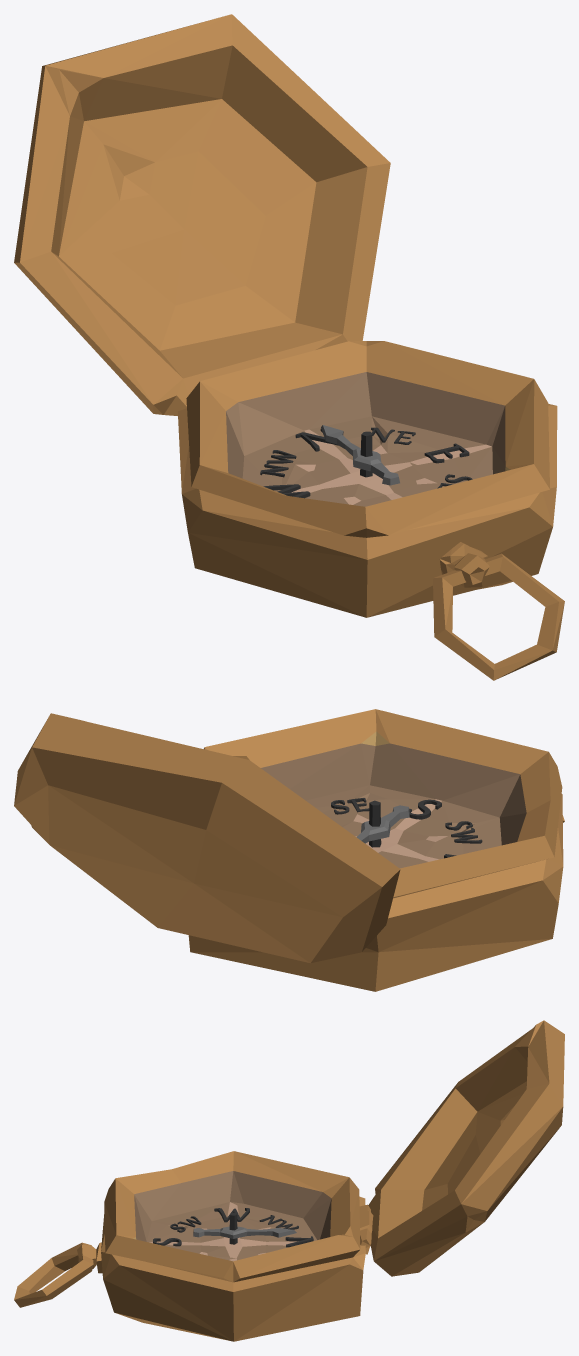
File: Compass.fbx
3 views of the same model, one above another, from view 1: azimuth 30°, elevation 25°; view 2: azimuth 150°, elevation 25°; view 3: azimuth 270°, elevation 25° (orthographic). The views are drawn at different scales.
Visible parts, largest first — view 1: CompassLid, Compass, CompassSpinner; view 2: CompassLid, Compass, CompassSpinner; view 3: Compass, CompassLid, CompassSpinner.
Boxes of the visible parts, x1,y1,x2,y2 form: CompassLid: (14, 14, 390, 415); Compass: (177, 341, 564, 680); CompassSpinner: (321, 425, 399, 485); CompassLid: (14, 713, 400, 963); Compass: (188, 709, 564, 991); CompassSpinner: (356, 805, 409, 843); Compass: (14, 1151, 373, 1341); CompassLid: (368, 1020, 564, 1276); CompassSpinner: (193, 1226, 296, 1238).
Bounding box in the file's own units: 0.4412 × 0.4038 × 0.8011.
